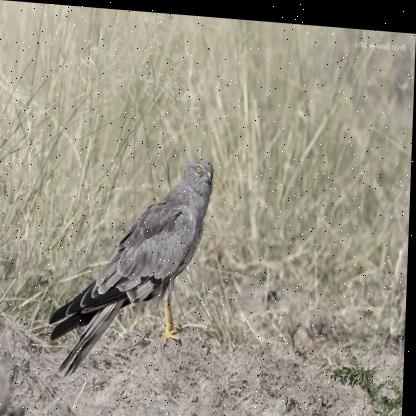Burung: (50, 146, 219, 384)
